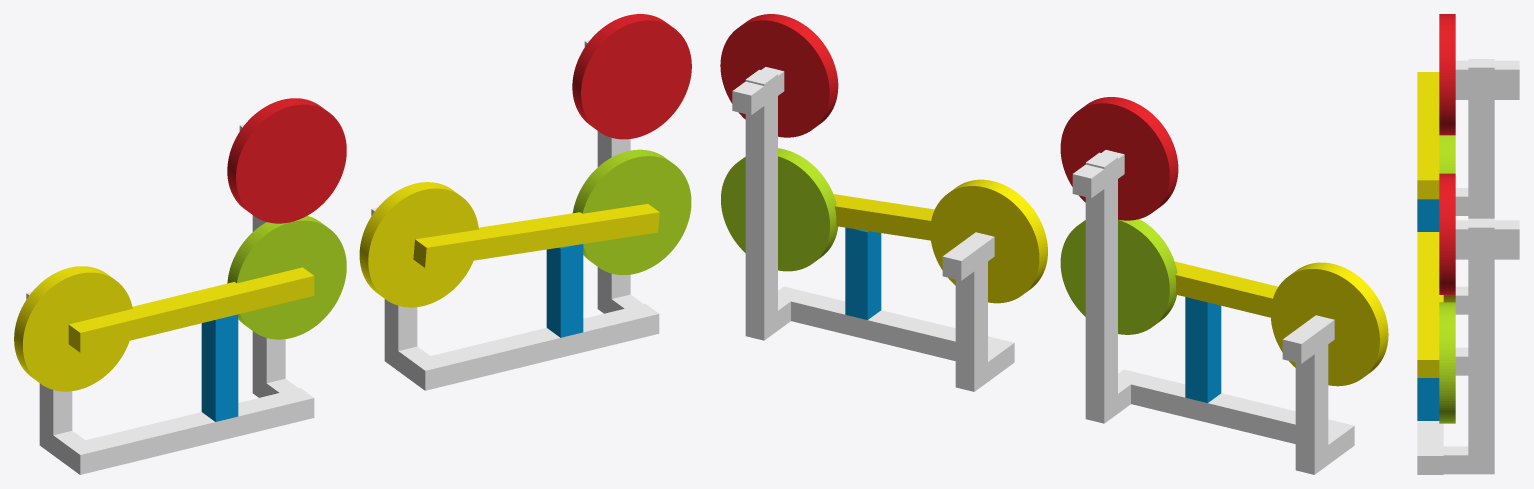
The model's file is logic_not_gate.obj.
3 renders of one model, left to right at view 1: azimuth 30°, elevation 25°; view 2: azimuth 150°, elevation 25°; view 3: azimuth 270°, elevation 25°, orthographic. The views are drawn at different scales.
Parts seen in each view (by area): view 1: Object.18, Object.4, Object.16, Object.13, Object.1, Object.14, Object.2, Object.3, Object.6, Object.15, Object.5, Object.17 (+2 smaller); view 2: Object.18, Object.1, Object.13, Object.4, Object.16, Object.8, Object.14, Object.2, Object.6, Object.7, Object.5, Object.3 (+4 smaller); view 3: Object.18, Object.8, Object.15, Object.3, Object.4, Object.14, Object.16, Object.11, Object.17, Object.5, Object.2, Object.10 (+2 smaller).
Part boxes in pixels (left/top/right/bottom): Object.18: left=371, top=40, right=659, bottom=390; Object.4: left=227, top=98, right=346, bottom=223; Object.16: left=572, top=14, right=691, bottom=139; Object.13: left=359, top=182, right=478, bottom=307; Object.1: left=14, top=266, right=132, bottom=391; Object.14: left=572, top=149, right=691, bottom=274; Object.2: left=227, top=216, right=346, bottom=339; Object.3: left=68, top=267, right=314, bottom=352; Object.6: left=66, top=388, right=314, bottom=474; Object.15: left=413, top=204, right=659, bottom=267; Object.5: left=201, top=314, right=238, bottom=421; Object.17: left=546, top=244, right=583, bottom=337; Object.18: left=732, top=67, right=1014, bottom=391; Object.1: left=1270, top=262, right=1388, bottom=386; Object.13: left=930, top=179, right=1047, bottom=303; Object.4: left=1060, top=97, right=1178, bottom=220; Object.16: left=720, top=14, right=838, bottom=137; Object.8: left=1085, top=152, right=1117, bottom=423; Object.14: left=721, top=148, right=837, bottom=271; Object.2: left=1060, top=219, right=1177, bottom=334; Object.6: left=1118, top=369, right=1354, bottom=454; Object.7: left=1295, top=325, right=1328, bottom=473; Object.5: left=1185, top=297, right=1221, bottom=402; Object.3: left=1174, top=261, right=1277, bottom=317; Object.18: left=1417, top=218, right=1519, bottom=474; Object.8: left=1468, top=59, right=1494, bottom=218; Object.15: left=1417, top=232, right=1443, bottom=377; Object.3: left=1417, top=72, right=1439, bottom=199; Object.4: left=1439, top=14, right=1455, bottom=135; Object.14: left=1439, top=302, right=1455, bottom=423; Object.16: left=1439, top=173, right=1455, bottom=294; Object.11: left=1455, top=60, right=1519, bottom=88; Object.17: left=1417, top=378, right=1439, bottom=420; Object.5: left=1417, top=199, right=1439, bottom=231; Object.2: left=1439, top=135, right=1455, bottom=173; Object.10: left=1455, top=88, right=1519, bottom=99.
Bounding box in the file's own units: 242 × 106 × 33.78.
